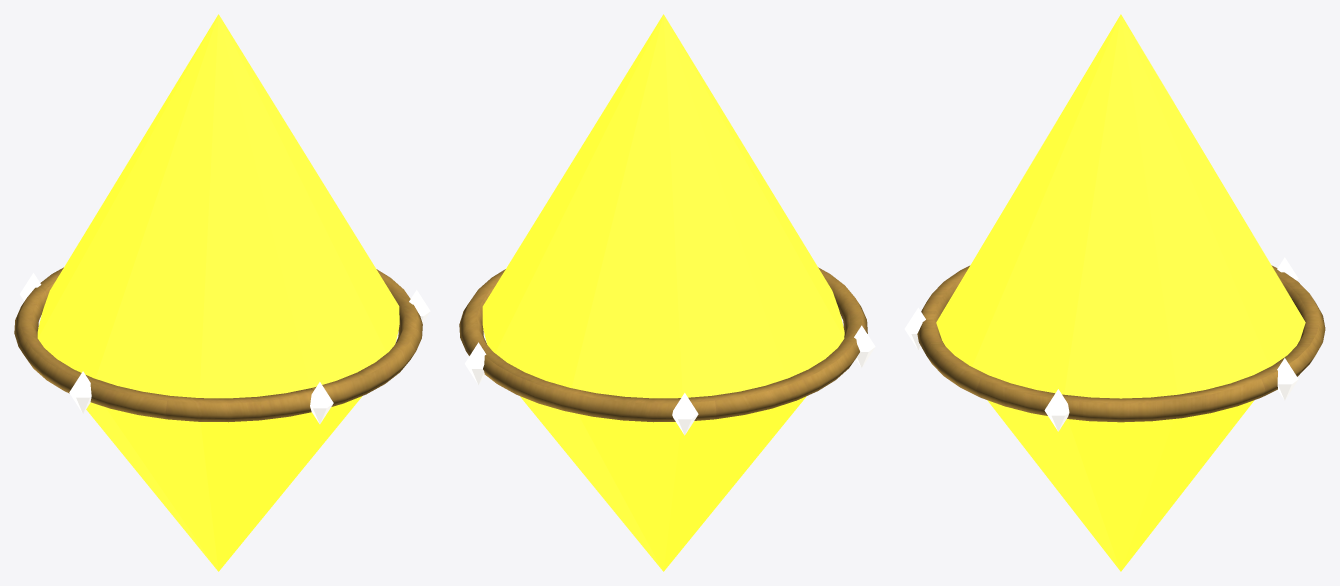
The model's file is lb_seal_2.glb.
3 views of the same model, side by side, from view 1: azimuth 30°, elevation 25°; view 2: azimuth 150°, elevation 25°; view 3: azimuth 270°, elevation 25° (orthographic).
Visible parts, largest first — view 1: lb_seal_2; view 2: lb_seal_2; view 3: lb_seal_2.
Part boxes in pixels (x1=…): lb_seal_2: x1=14, y1=14, x2=430, y2=571; lb_seal_2: x1=459, y1=14, x2=875, y2=571; lb_seal_2: x1=904, y1=14, x2=1325, y2=571.
Size of the model in its own units: 2.06 by 3.1 by 2.12.
3 materials, 1 textured.
